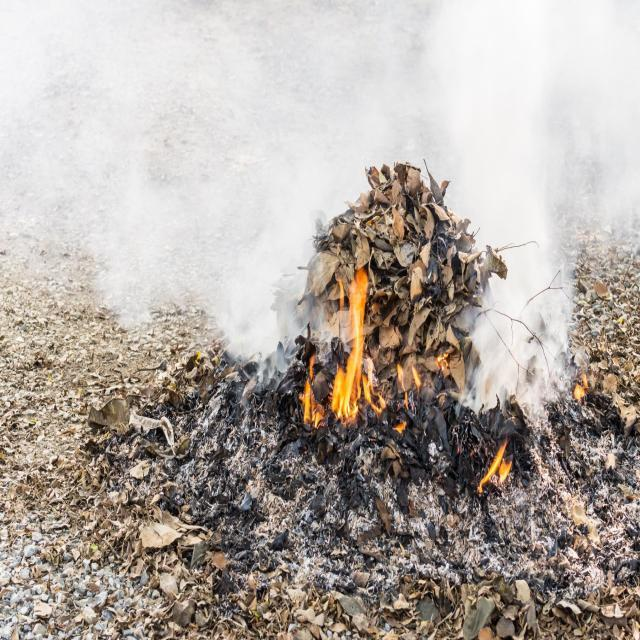Fire: (304, 253, 385, 429), (394, 356, 429, 426), (476, 440, 516, 500)
Smoke: (47, 9, 357, 344), (452, 22, 640, 440)
